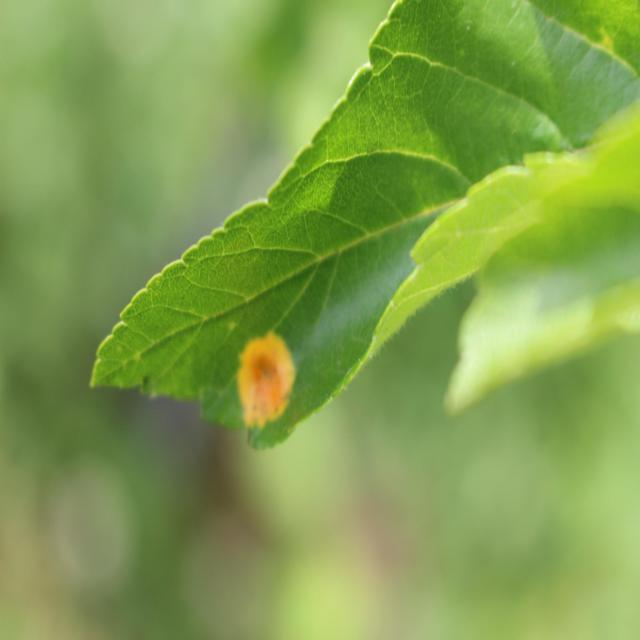Rust: (237, 310, 300, 448)
